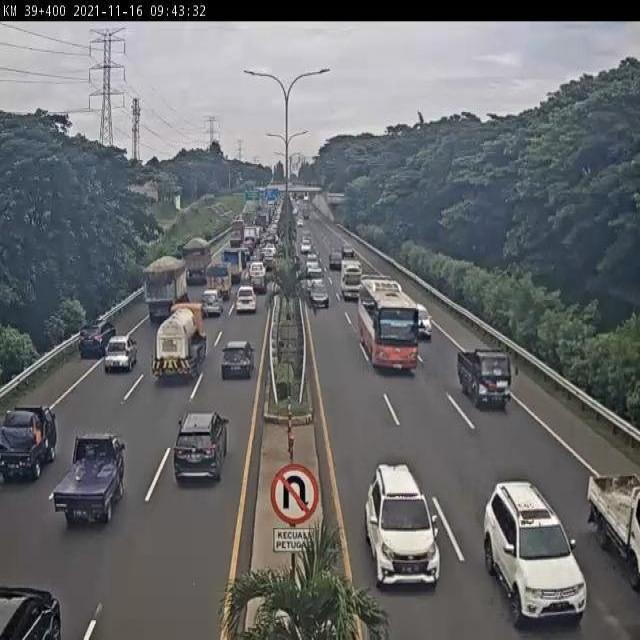car: (483, 478, 582, 626), (365, 462, 442, 594), (54, 430, 128, 530), (4, 397, 62, 488), (173, 409, 232, 487), (459, 347, 519, 411), (79, 315, 116, 361), (104, 332, 138, 373), (221, 342, 255, 382), (201, 285, 224, 315), (235, 287, 258, 317), (250, 263, 268, 291)
truck: (358, 273, 421, 372), (152, 303, 208, 387), (143, 254, 193, 330), (180, 239, 211, 288), (204, 263, 231, 300)
